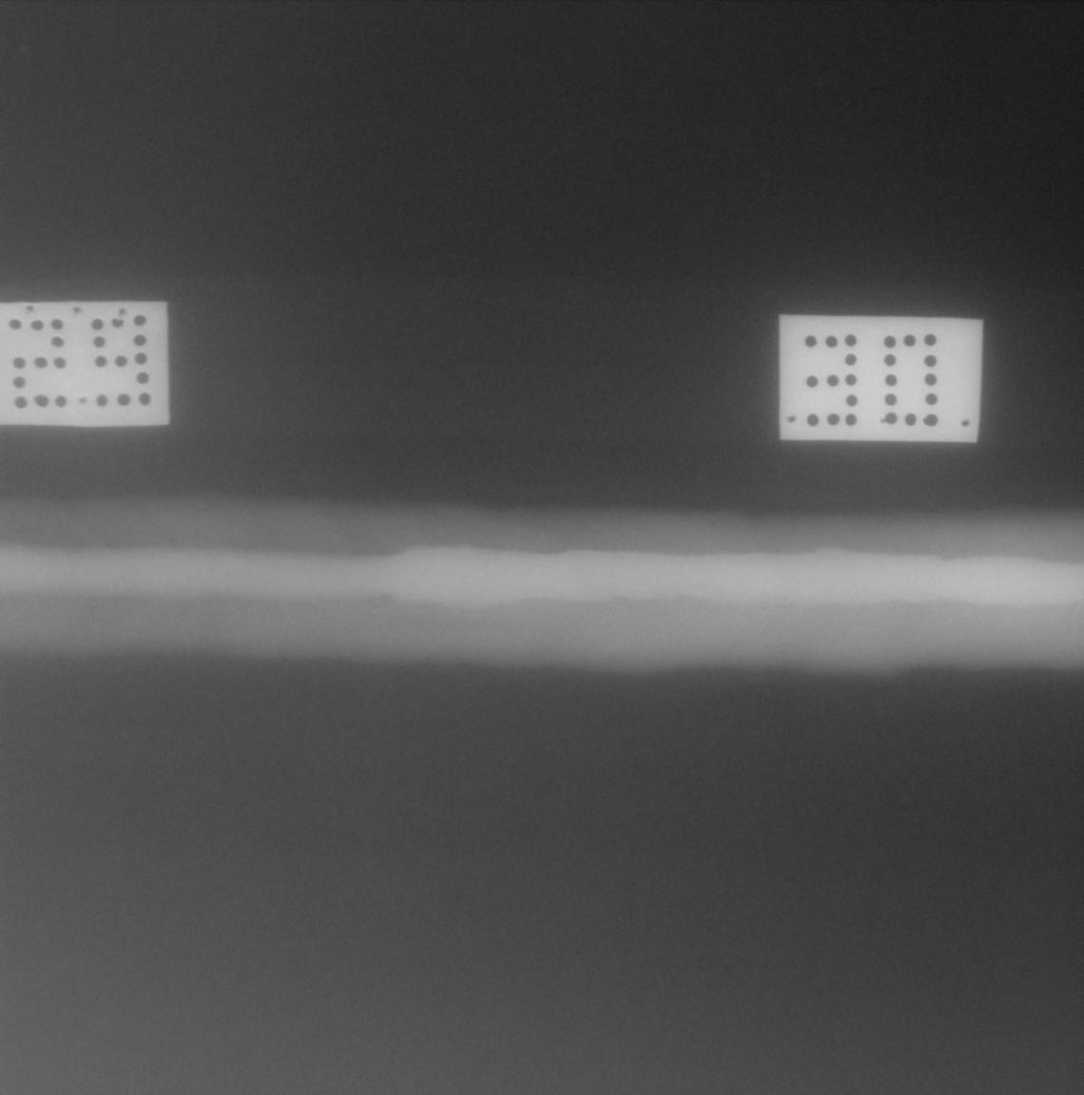Pore/Porosity: (607, 574, 614, 578), (564, 616, 568, 620)
